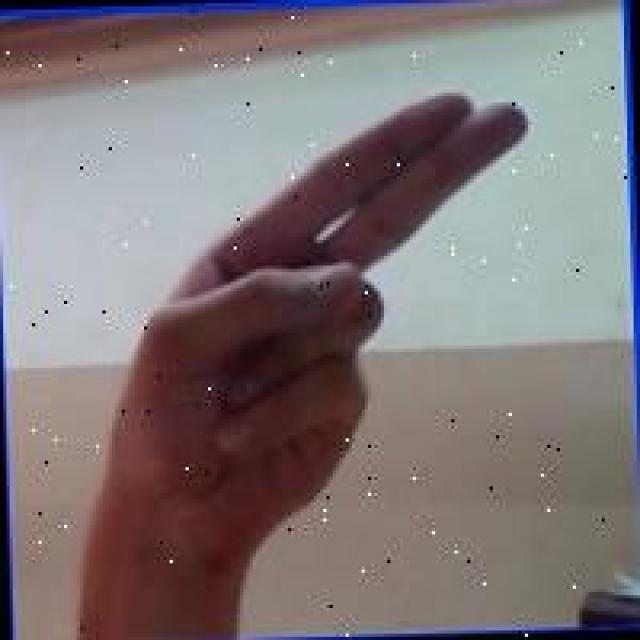H: (92, 80, 554, 566)
